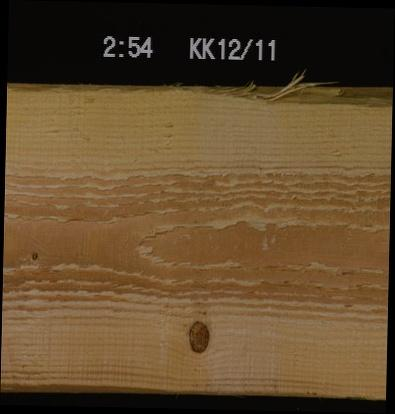dry_knot: (185, 317, 210, 354)
small_knot: (27, 247, 40, 263)
wave: (6, 79, 392, 105), (0, 380, 386, 399)
